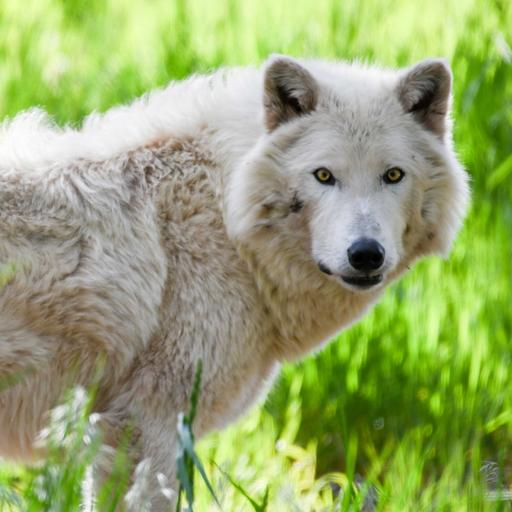Wolf: (0, 0, 478, 510)
